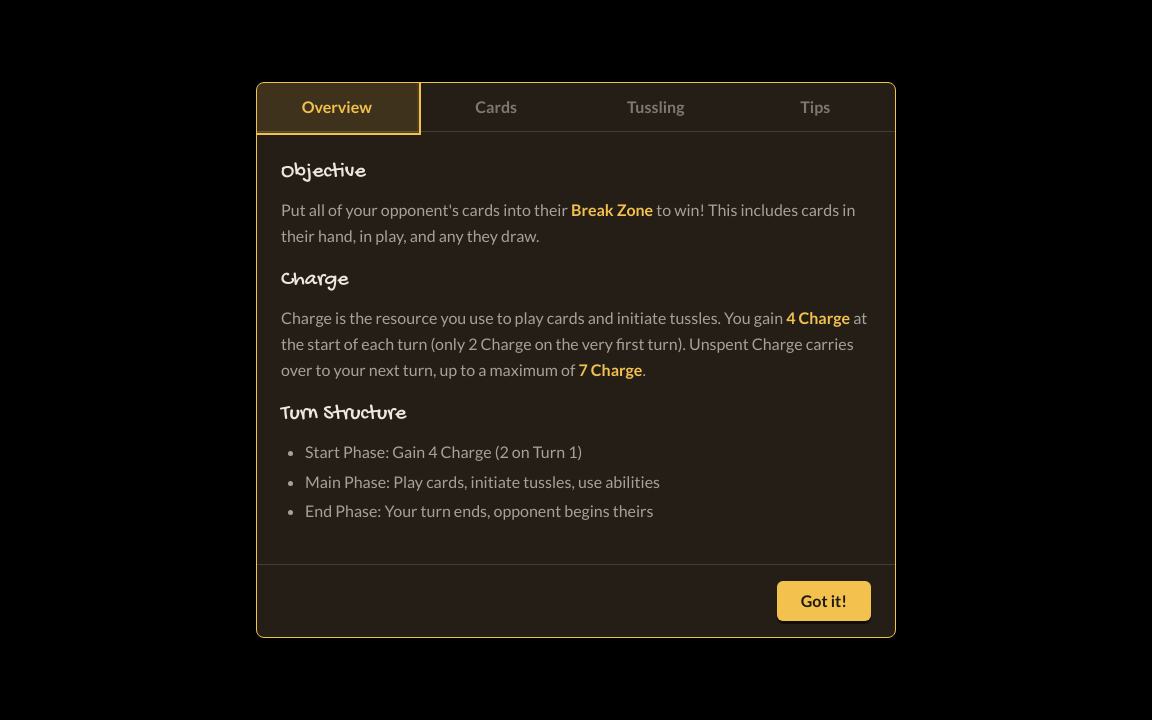
Test: HowToPlay › switches to the Tussling tab and shows its headings
This screenshot has width=1152, height=720.
Click the button "Tussling".
click(656, 107)  # box [576, 83, 736, 131]
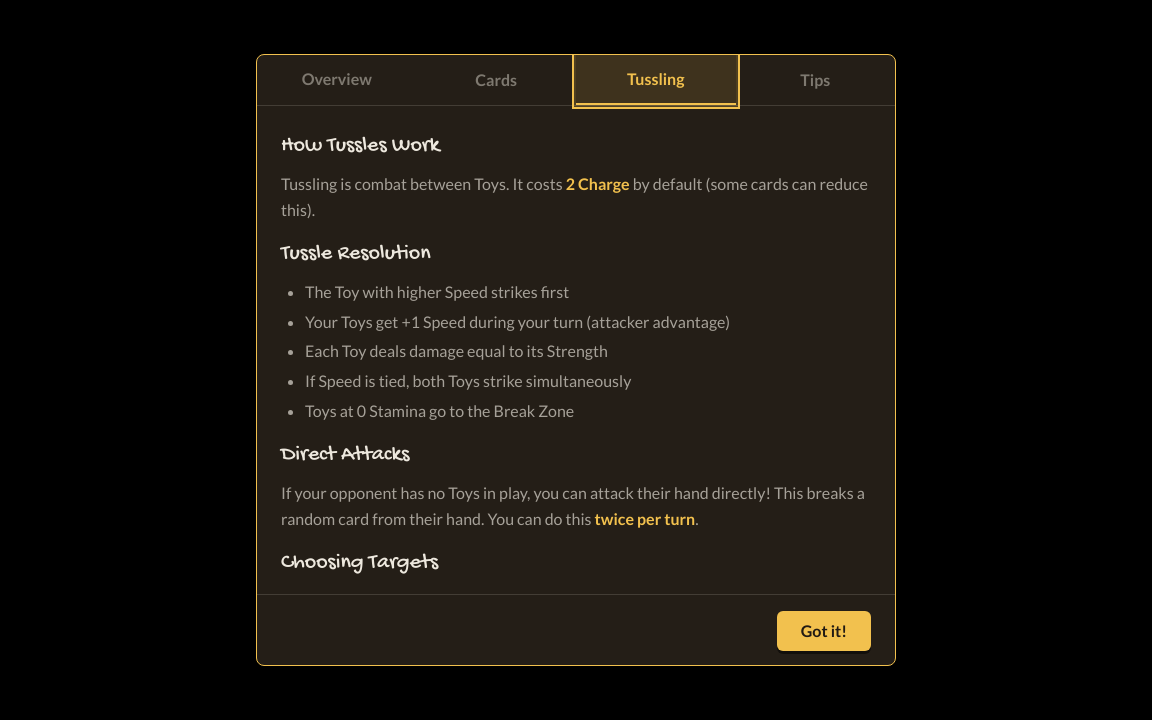
Now the heading "How Tussles Work" is shown, box [281, 133, 440, 159]
Now the heading "Choosing Targets" is shown, box [281, 550, 438, 576]
